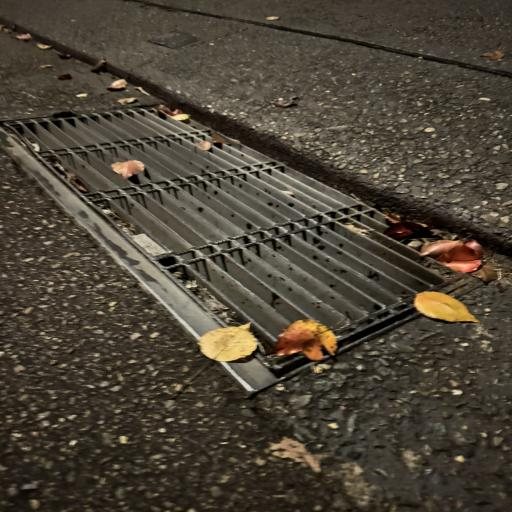debris: (270, 319, 338, 362), (421, 239, 490, 276), (198, 322, 257, 363), (413, 291, 479, 323), (15, 33, 75, 60), (384, 214, 428, 238), (110, 157, 149, 183), (193, 133, 233, 153), (157, 104, 191, 124), (271, 438, 300, 460), (105, 78, 130, 94), (275, 96, 299, 108), (482, 49, 505, 61), (91, 59, 108, 74), (117, 95, 139, 106), (131, 86, 149, 97), (57, 73, 73, 81), (266, 16, 280, 22), (76, 92, 88, 98), (40, 64, 52, 69), (510, 166, 512, 173)
gutter: (0, 150, 512, 512), (2, 107, 480, 393), (0, 31, 116, 119)
step: (0, 0, 512, 253)
